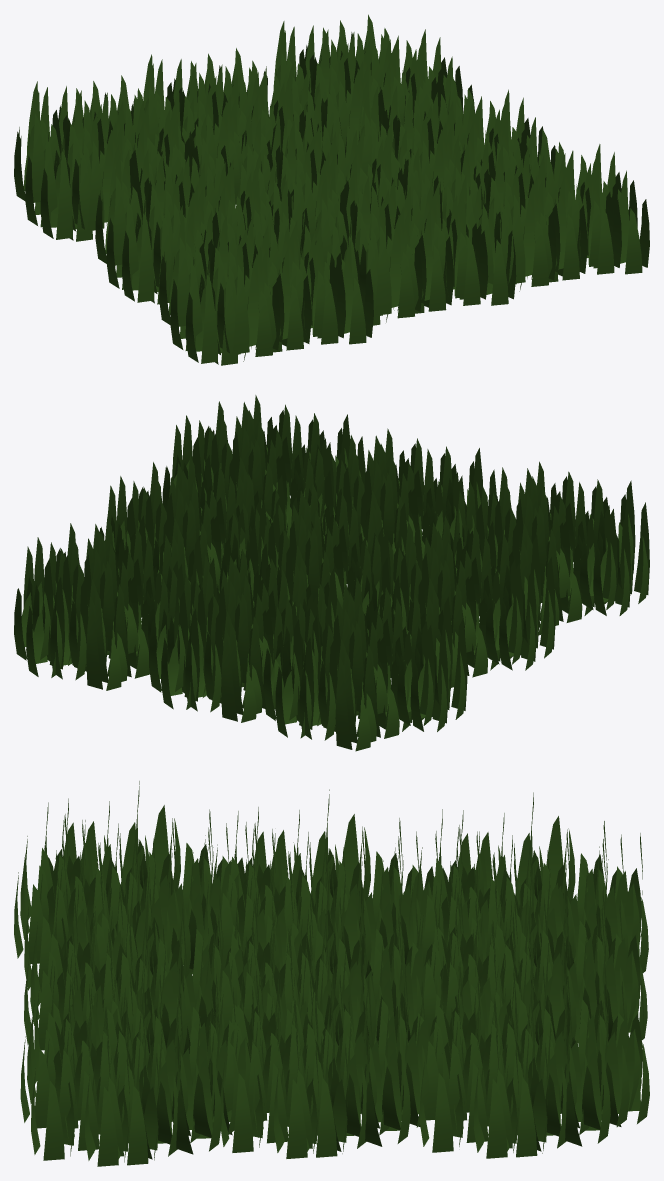
The model's file is CESPED_MOTA.glb.
3 views of the same model, one above another, from view 1: azimuth 30°, elevation 25°; view 2: azimuth 150°, elevation 25°; view 3: azimuth 270°, elevation 25° (orthographic). The views are drawn at different scales.
Parts seen in each view (by area): view 1: cesped 1.009; view 2: cesped 1.009; view 3: cesped 1.009.
Part boxes in pixels (x1,y1,x2,y2): cesped 1.009: (14, 14, 649, 365); cesped 1.009: (14, 395, 649, 751); cesped 1.009: (14, 781, 649, 1166).
Bounding box in the file's own units: 3.2 × 0.7477 × 3.23.
